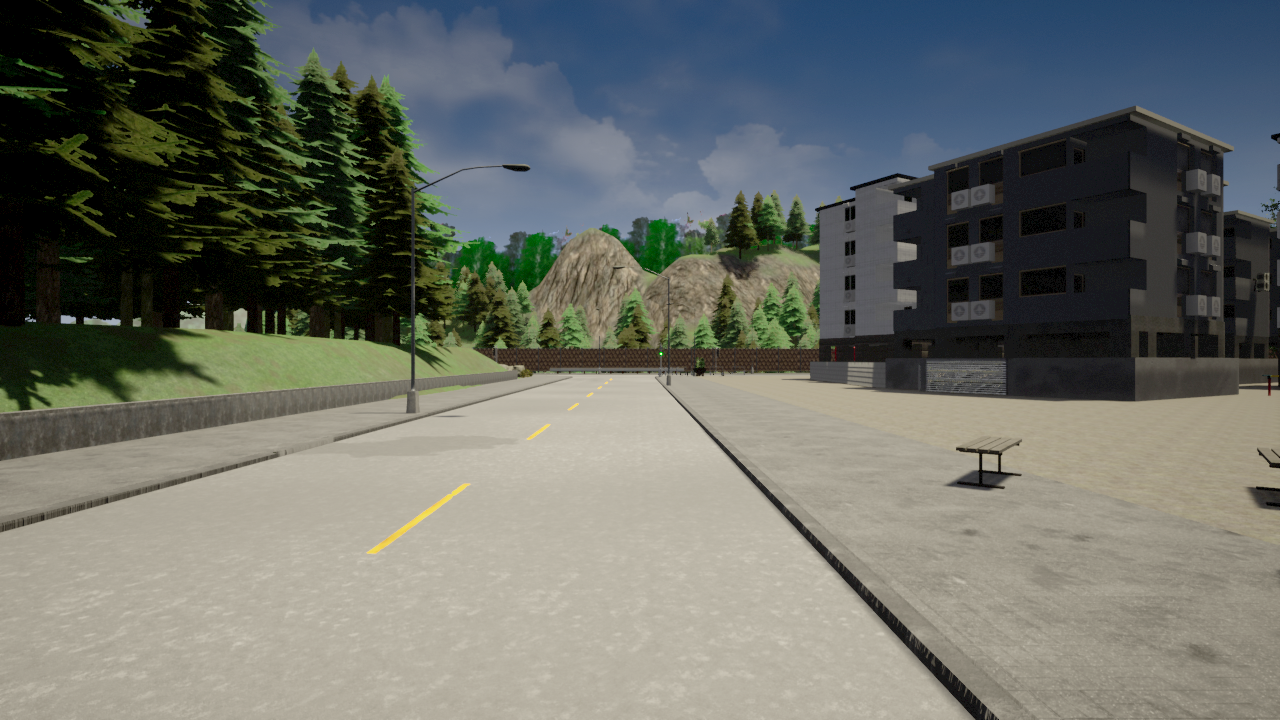green: (659, 346, 663, 356)
